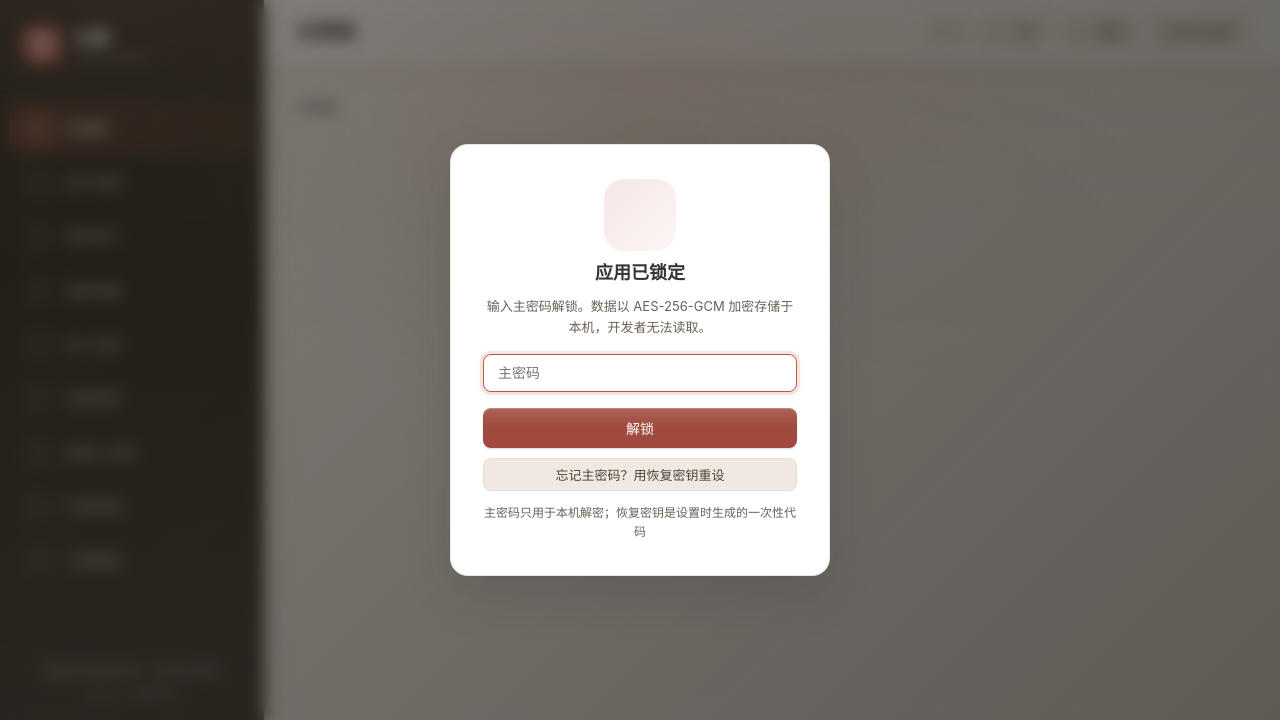
App 锁定遮罩 › 错误密码：保持锁定并显示后端错误消息
Type "wrong-pass" into the password field named "主密码" at (640, 372), box x1=483 y1=354 x2=797 y2=392
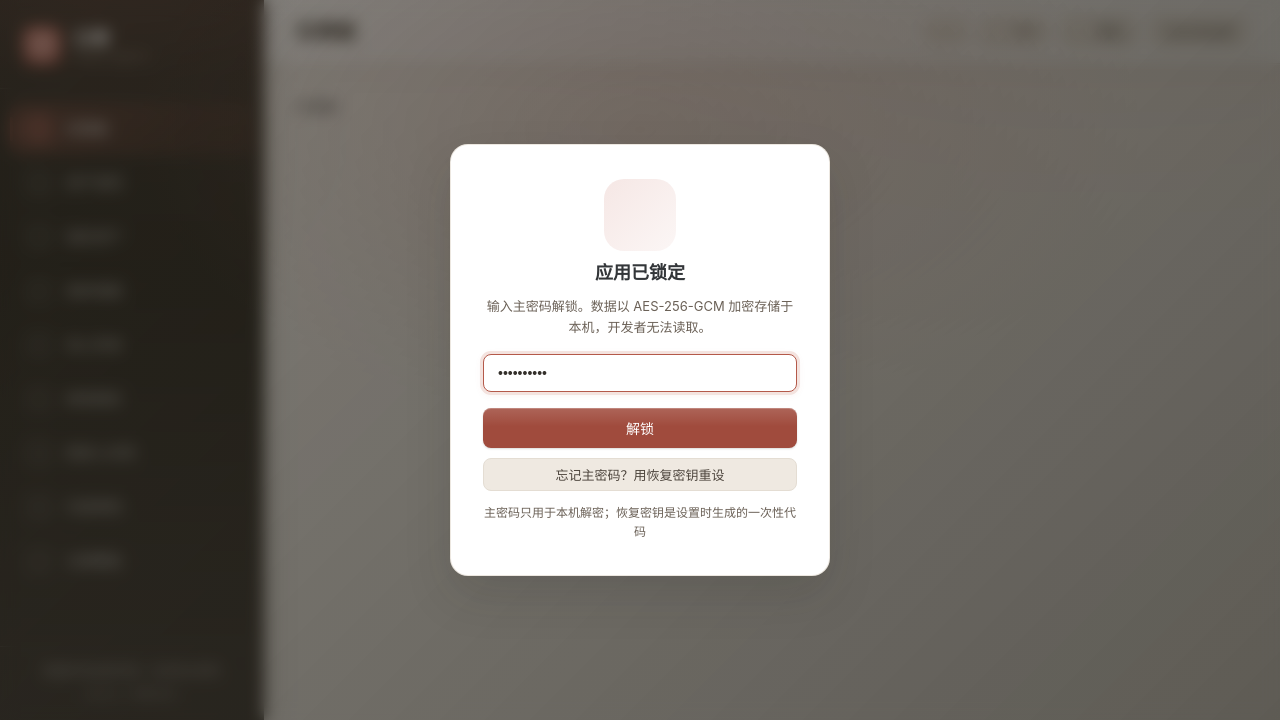
Click the button "解锁" at (640, 428), box x1=483 y1=408 x2=797 y2=448
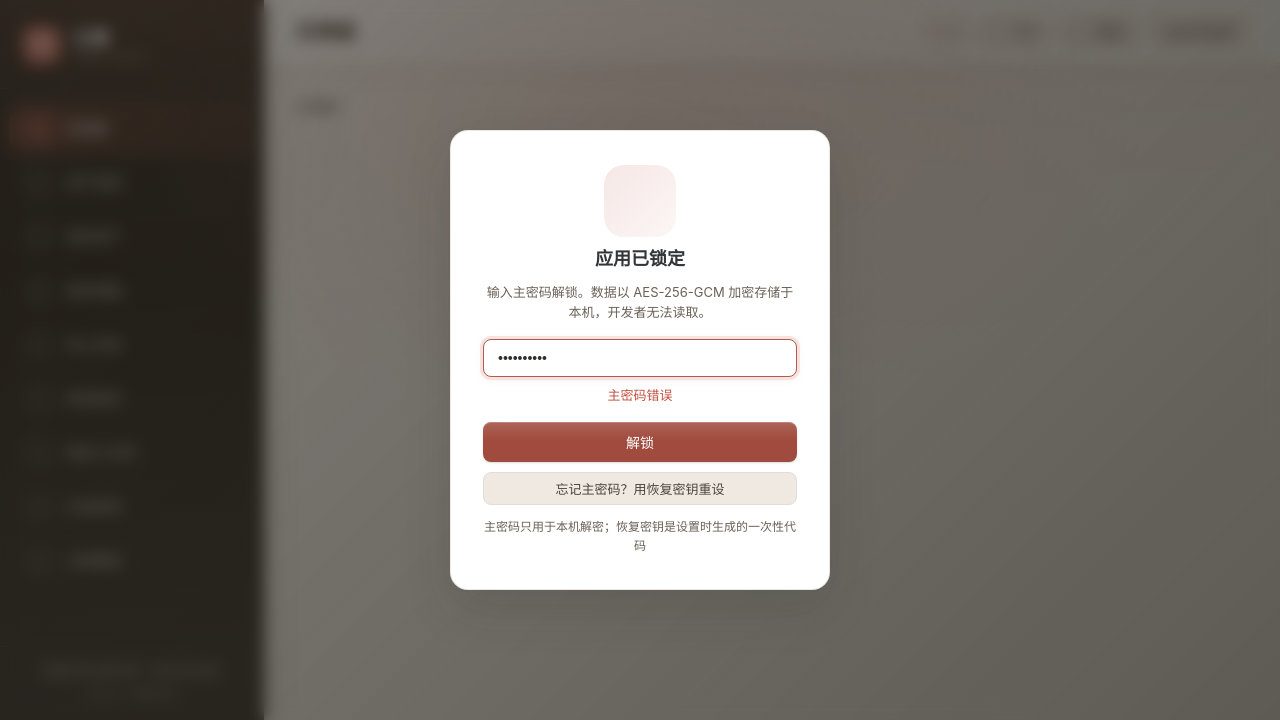
Expected: the text "主密码错误" is shown, x1=608 y1=387 x2=672 y2=403
